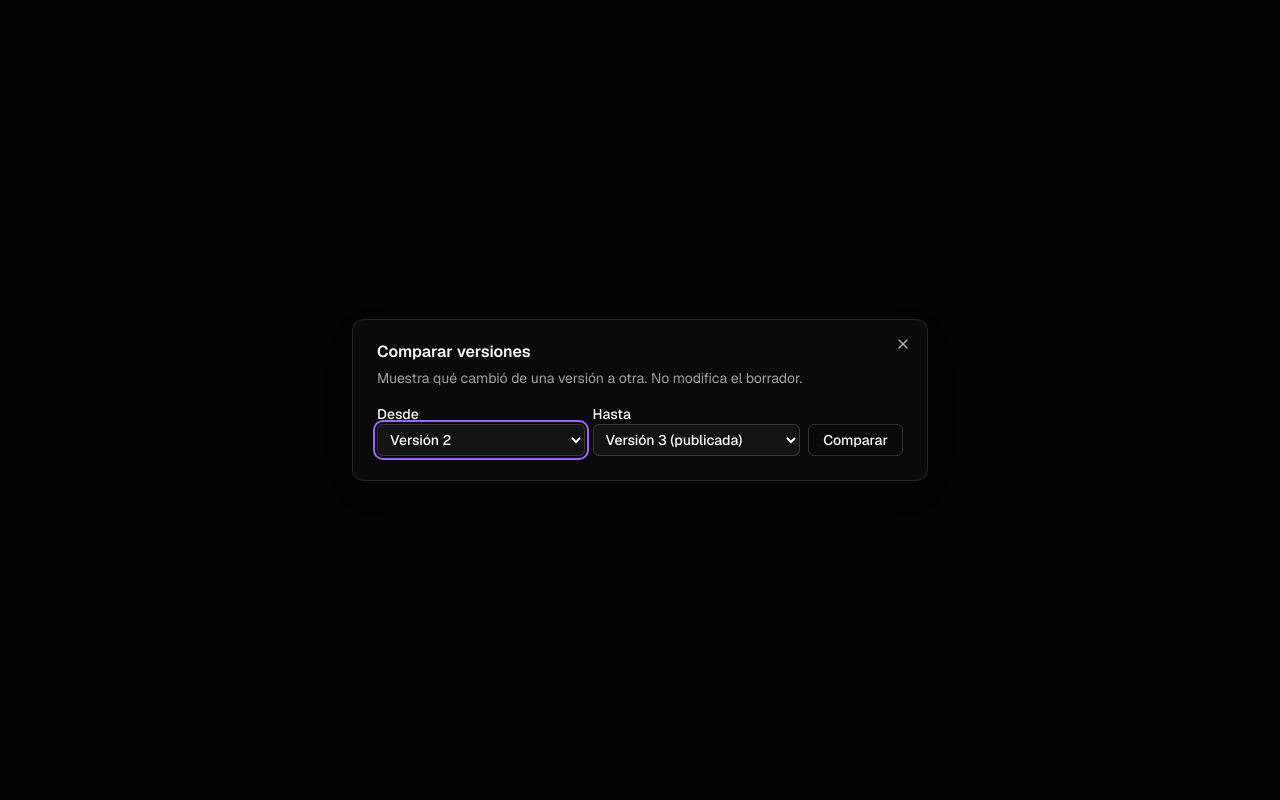
Test case: VersionCompare › compara por defecto la version anterior con la mas reciente y lista los cambios
Expected: the dropdown labelled "Desde" shows "Versión 2", [377,424,585,456]
Expected: the dropdown labelled "Hasta" shows "Versión 3 (publicada)", [593,424,800,456]
What coordinates should you click on to do the following:
click the button "Comparar"
I would click on:
 (856, 440)
Its box is [808,424,903,456].
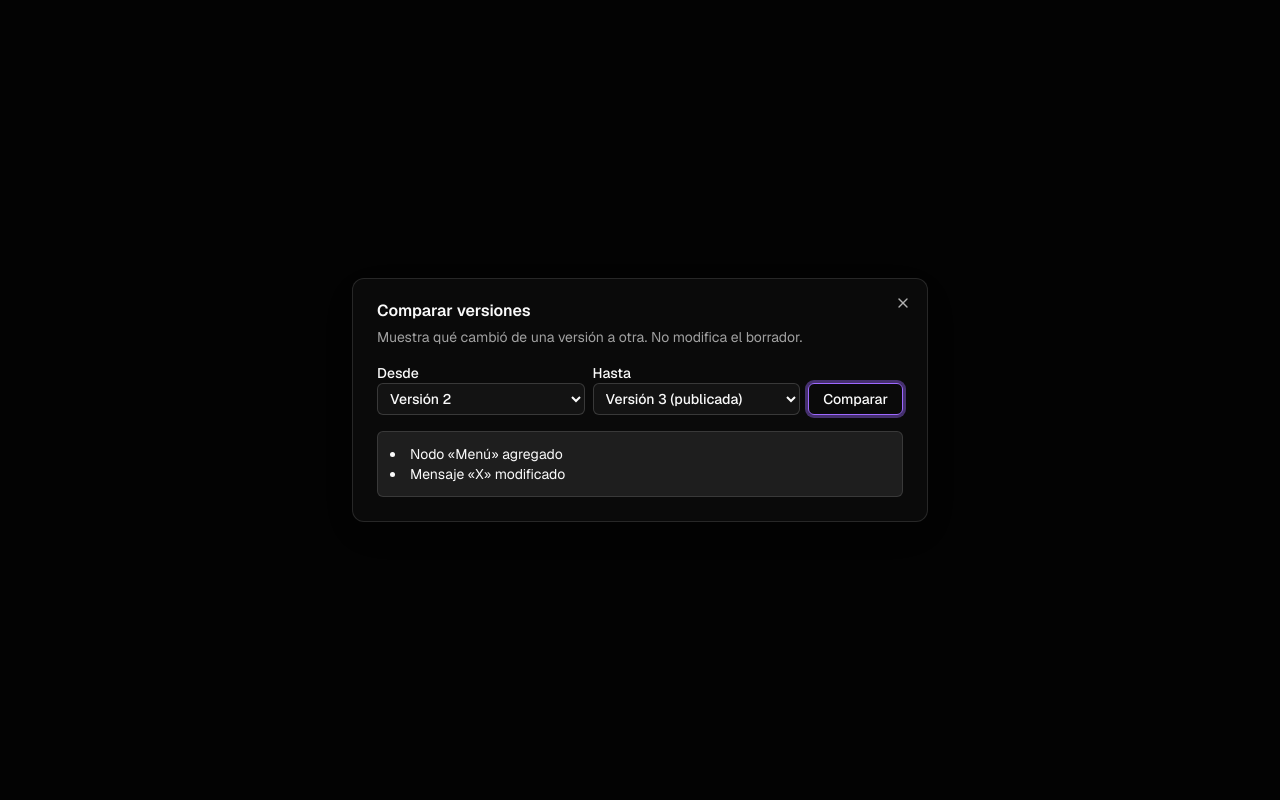
Expected: the list named "Cambios de la versión 2 a la 3" shows "Nodo «Menú» agregado", [410,445,563,463]
